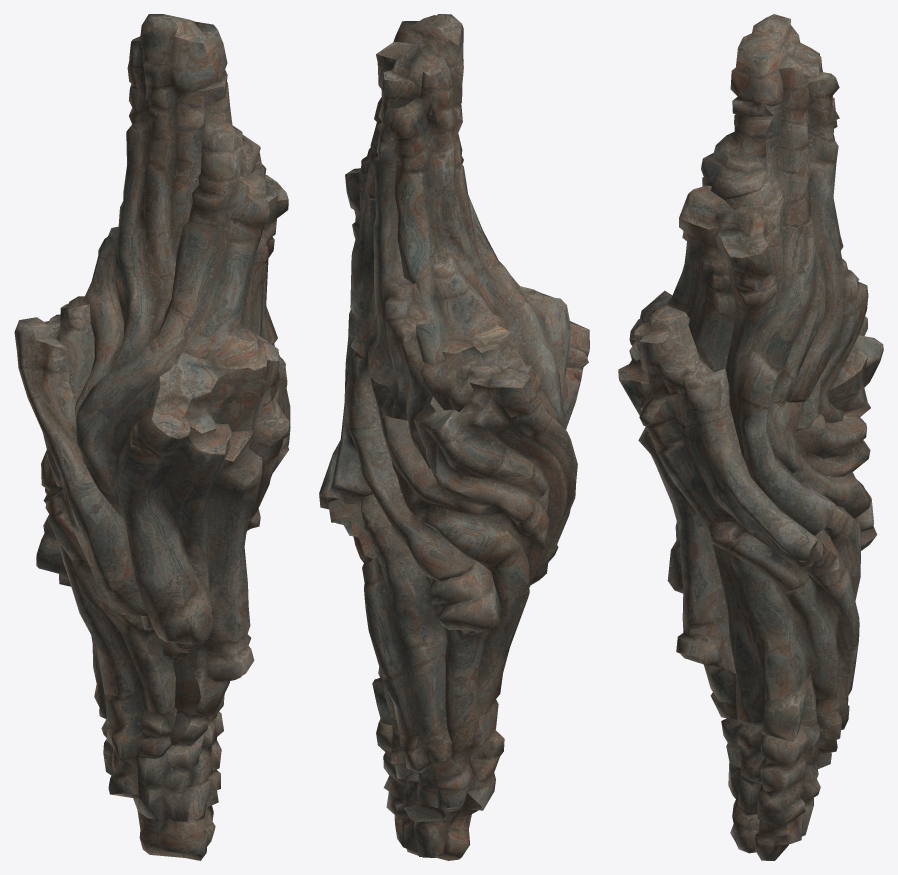
File: bg_rad_kamen_rockpillar01_sm.obj
3 views of the same model, side by side, from view 1: azimuth 30°, elevation 25°; view 2: azimuth 150°, elevation 25°; view 3: azimuth 270°, elevation 25° (orthographic). The views are drawn at different scales.
Visible parts, largest first — view 1: bg_rad_kamen_rockpillar01_sm_0, bg_rad_kamen_rockpillar01_sm_1; view 2: bg_rad_kamen_rockpillar01_sm_1, bg_rad_kamen_rockpillar01_sm_0; view 3: bg_rad_kamen_rockpillar01_sm_0, bg_rad_kamen_rockpillar01_sm_1.
Part boxes in pixels (box(x1,y1,x2,y2)): bg_rad_kamen_rockpillar01_sm_0: box(14, 14, 290, 530); bg_rad_kamen_rockpillar01_sm_1: box(14, 330, 262, 860); bg_rad_kamen_rockpillar01_sm_1: box(319, 323, 589, 860); bg_rad_kamen_rockpillar01_sm_0: box(319, 14, 588, 581); bg_rad_kamen_rockpillar01_sm_0: box(618, 14, 870, 592); bg_rad_kamen_rockpillar01_sm_1: box(619, 316, 883, 860).
Bounding box in the file's own units: 2.22 × 7.79 × 2.26.
Materials: 2 (2 with a texture image).
